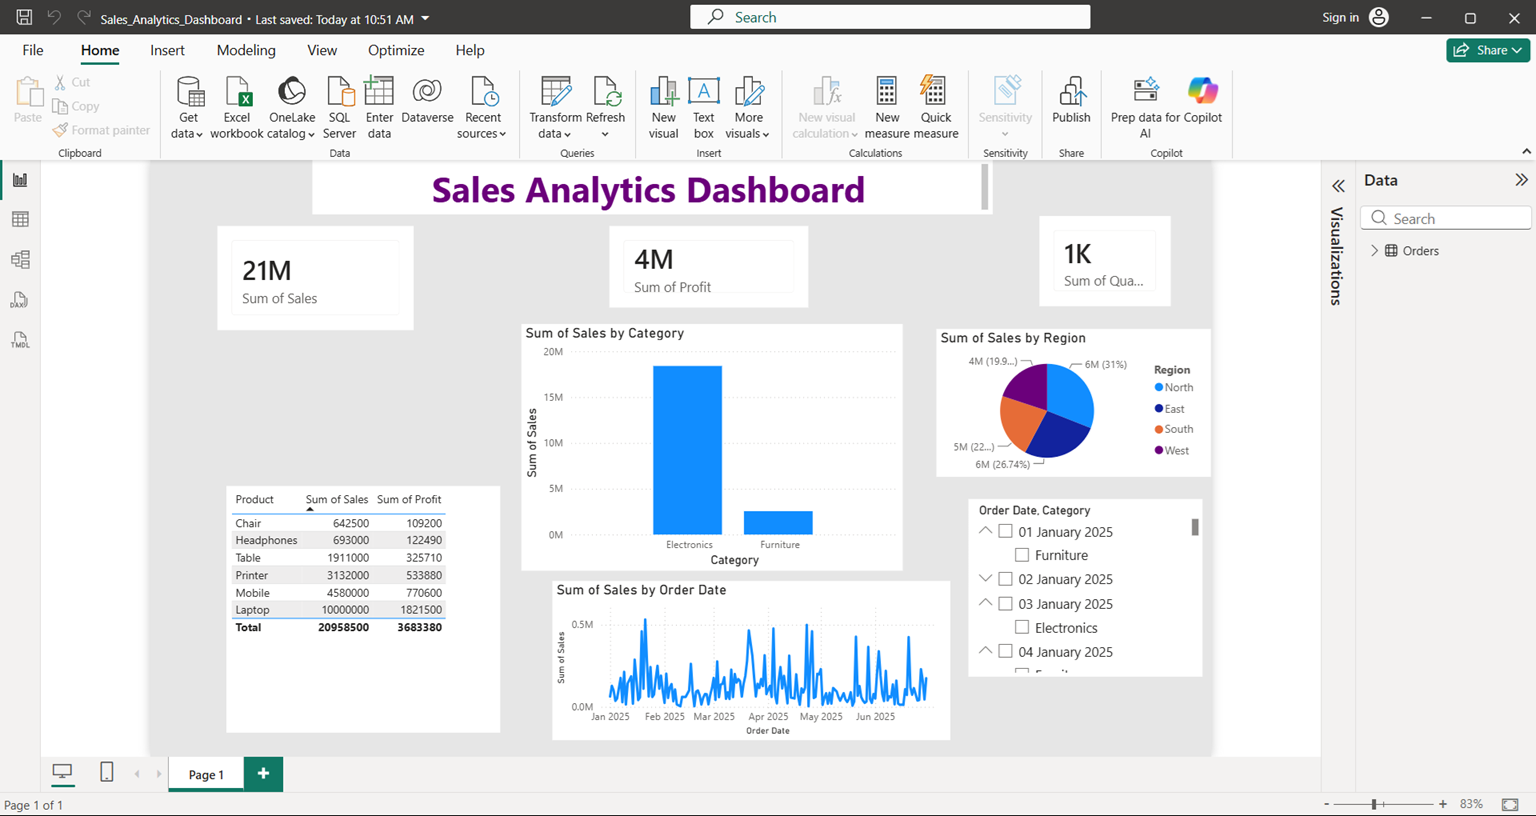

The page's visual inventory and layout, read from the dashboard file:
{"tool":"powerbi","page":{"name":"Page 1","canvas":[1280,720],"ordinal":0},"visuals":[{"type":"textbox","box":[194.9,0,820.6,65.9],"z":0},{"type":"cardVisual","fields":{"Data":["Sum(Orders.Sales)"]},"box":[81.4,80,237.1,125.7],"z":1},{"type":"cardVisual","fields":{"Data":["Sum(Orders.Profit)"]},"box":[554.3,80,240,98.6],"z":2},{"type":"cardVisual","fields":{"Data":["Sum(Orders.Quantity)"]},"box":[1072.9,67.1,158.6,108.6],"z":4},{"type":"lineChart","fields":{"Y":["Sum(Orders.Sales)"],"Category":["Orders.Order Date"]},"box":[362.9,204.3,480,191.4],"z":5},{"type":"columnChart","fields":{"Category":["Orders.Category"],"Y":["Sum(Orders.Sales)"]},"box":[46.7,422.6,459.7,297.8],"z":6},{"type":"pieChart","fields":{"Category":["Orders.Region"],"Y":["Sum(Orders.Sales)"]},"box":[948.6,204.3,331.4,178.6],"z":7},{"type":"tableEx","fields":{"Values":["Orders.Product","Sum(Orders.Sales)","Sum(Orders.Profit)"]},"box":[175.7,422.9,331.4,297.1],"z":8},{"type":"slicer","fields":{"Values":["Orders.Order Date","Orders.Category"]},"box":[950,408.6,281.4,215.7],"z":9}]}

Visuals, with their boxes on the page's 1280x720 design canvas (x1, y1, x2, y2). These are canvas units, not pixel positions in the 1536x816 screenshot, which may show the page scaled, cropped or inside an application window:
textbox: [195, 0, 1016, 66]
cardVisual - Sum(Orders.Sales): [81, 80, 318, 206]
cardVisual - Sum(Orders.Profit): [554, 80, 794, 179]
cardVisual - Sum(Orders.Quantity): [1073, 67, 1232, 176]
lineChart - Sum(Orders.Sales) x Orders.Order Date: [363, 204, 843, 396]
columnChart - Orders.Category x Sum(Orders.Sales): [47, 423, 506, 720]
pieChart - Orders.Region x Sum(Orders.Sales): [949, 204, 1280, 383]
tableEx - Orders.Product x Sum(Orders.Sales): [176, 423, 507, 720]
slicer - Orders.Order Date x Orders.Category: [950, 409, 1231, 624]
